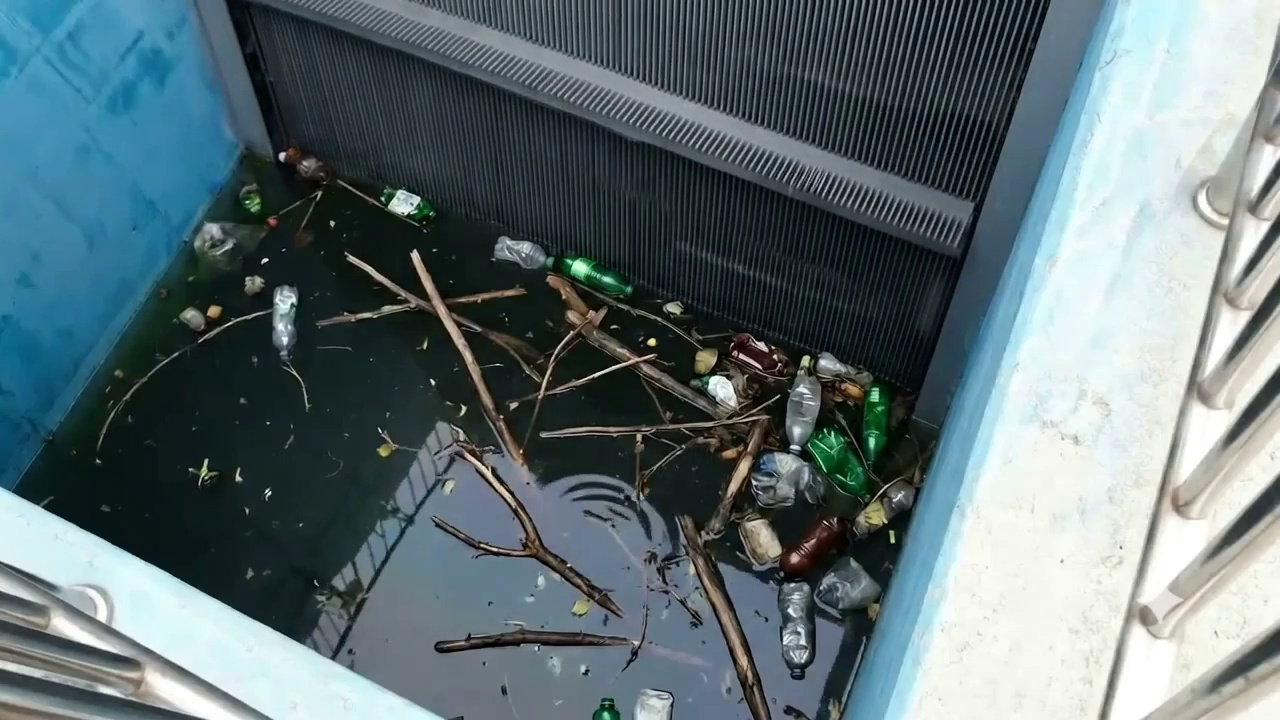debris: (740, 372, 913, 677), (432, 442, 623, 617), (678, 410, 770, 719), (411, 251, 522, 464), (495, 236, 633, 323), (317, 255, 439, 326), (497, 236, 630, 297), (446, 311, 540, 379), (436, 629, 645, 658), (637, 362, 729, 416), (727, 333, 785, 375), (277, 147, 334, 185), (376, 188, 434, 223), (196, 224, 267, 251), (273, 286, 296, 360), (583, 327, 634, 359), (379, 191, 434, 220), (442, 288, 523, 305), (242, 184, 261, 213)
